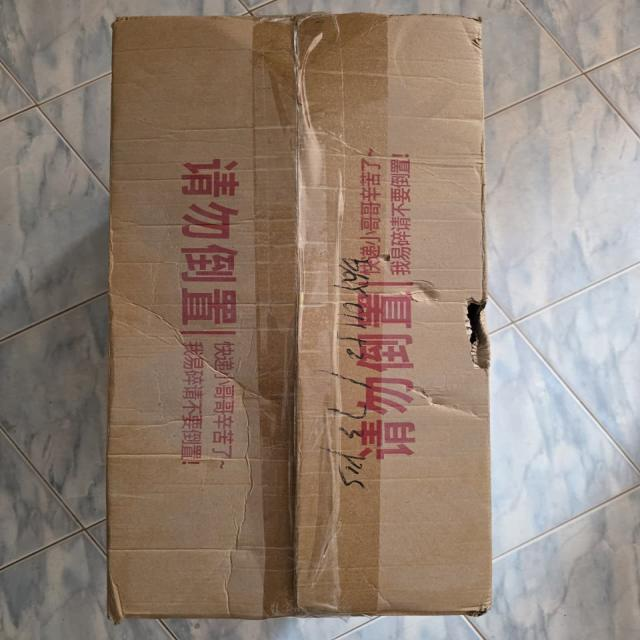carton_box: (98, 10, 508, 630)
package_damage: (450, 271, 504, 379)
